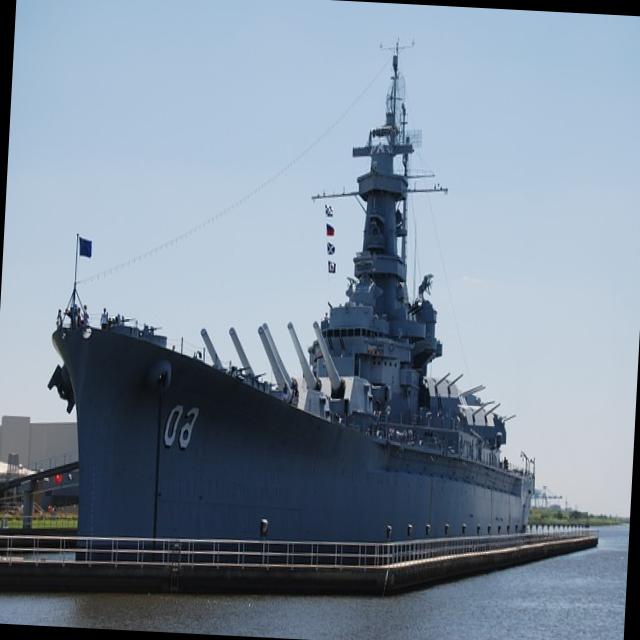Military: (51, 22, 533, 544)
